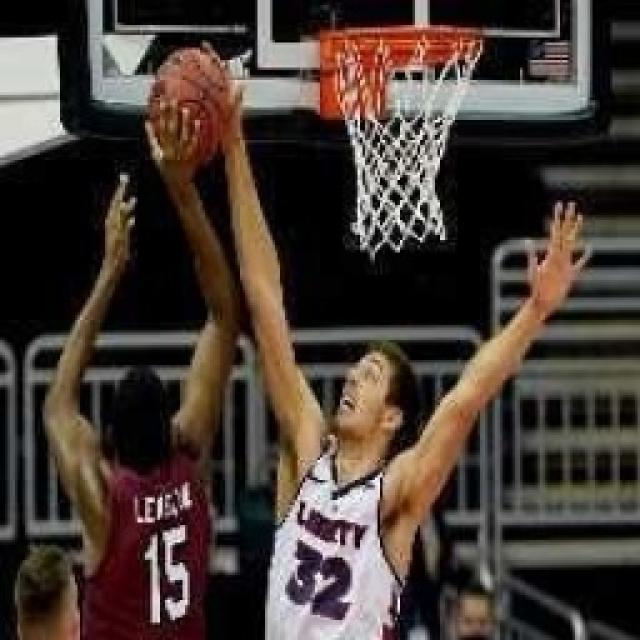rim: (148, 42, 230, 160)
